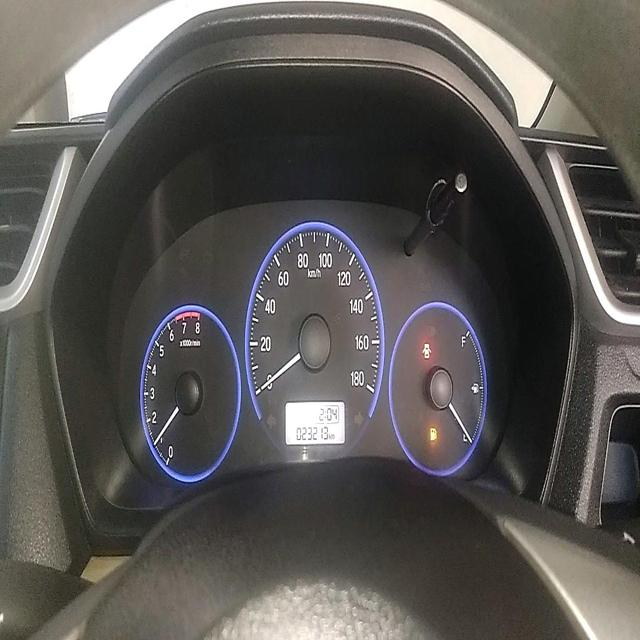odometer: (294, 421, 329, 445)
